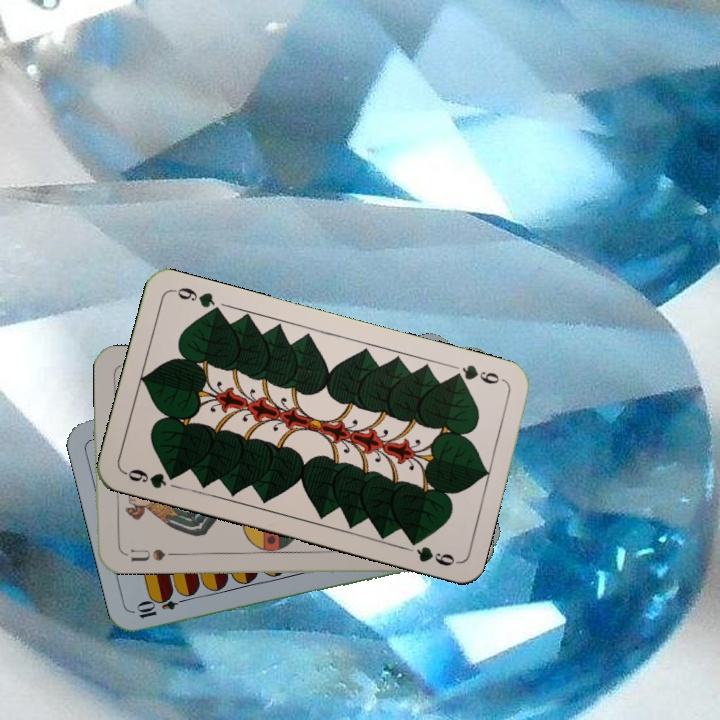E10: (133, 592, 191, 622)
G9: (447, 360, 507, 387), (120, 465, 181, 491)
SU: (118, 545, 167, 564)
